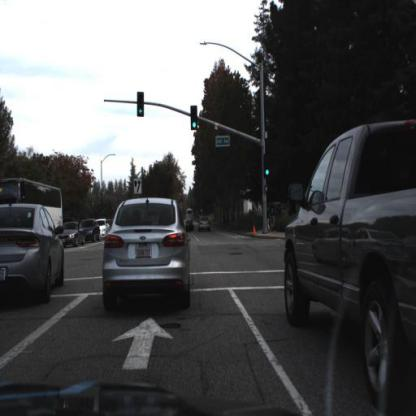car: (281, 119, 416, 415), (102, 197, 190, 313), (1, 203, 67, 304), (57, 224, 86, 251), (81, 219, 102, 245), (85, 220, 101, 244), (198, 214, 213, 235), (99, 218, 112, 241), (99, 219, 109, 240), (200, 218, 212, 234)
pedestrian: (266, 200, 277, 234)
trafficLight: (137, 90, 147, 122)
trafficLight-Green: (190, 105, 200, 134), (263, 154, 273, 181)
truck: (2, 180, 64, 245)
